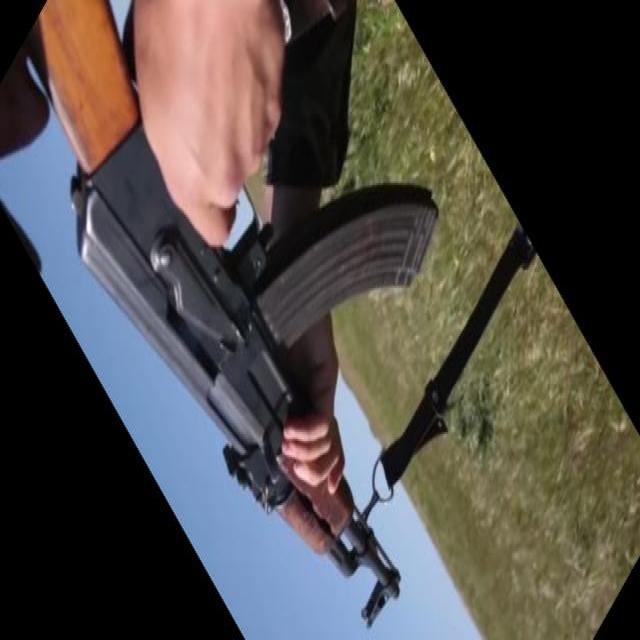weapon: (24, 0, 439, 630)
